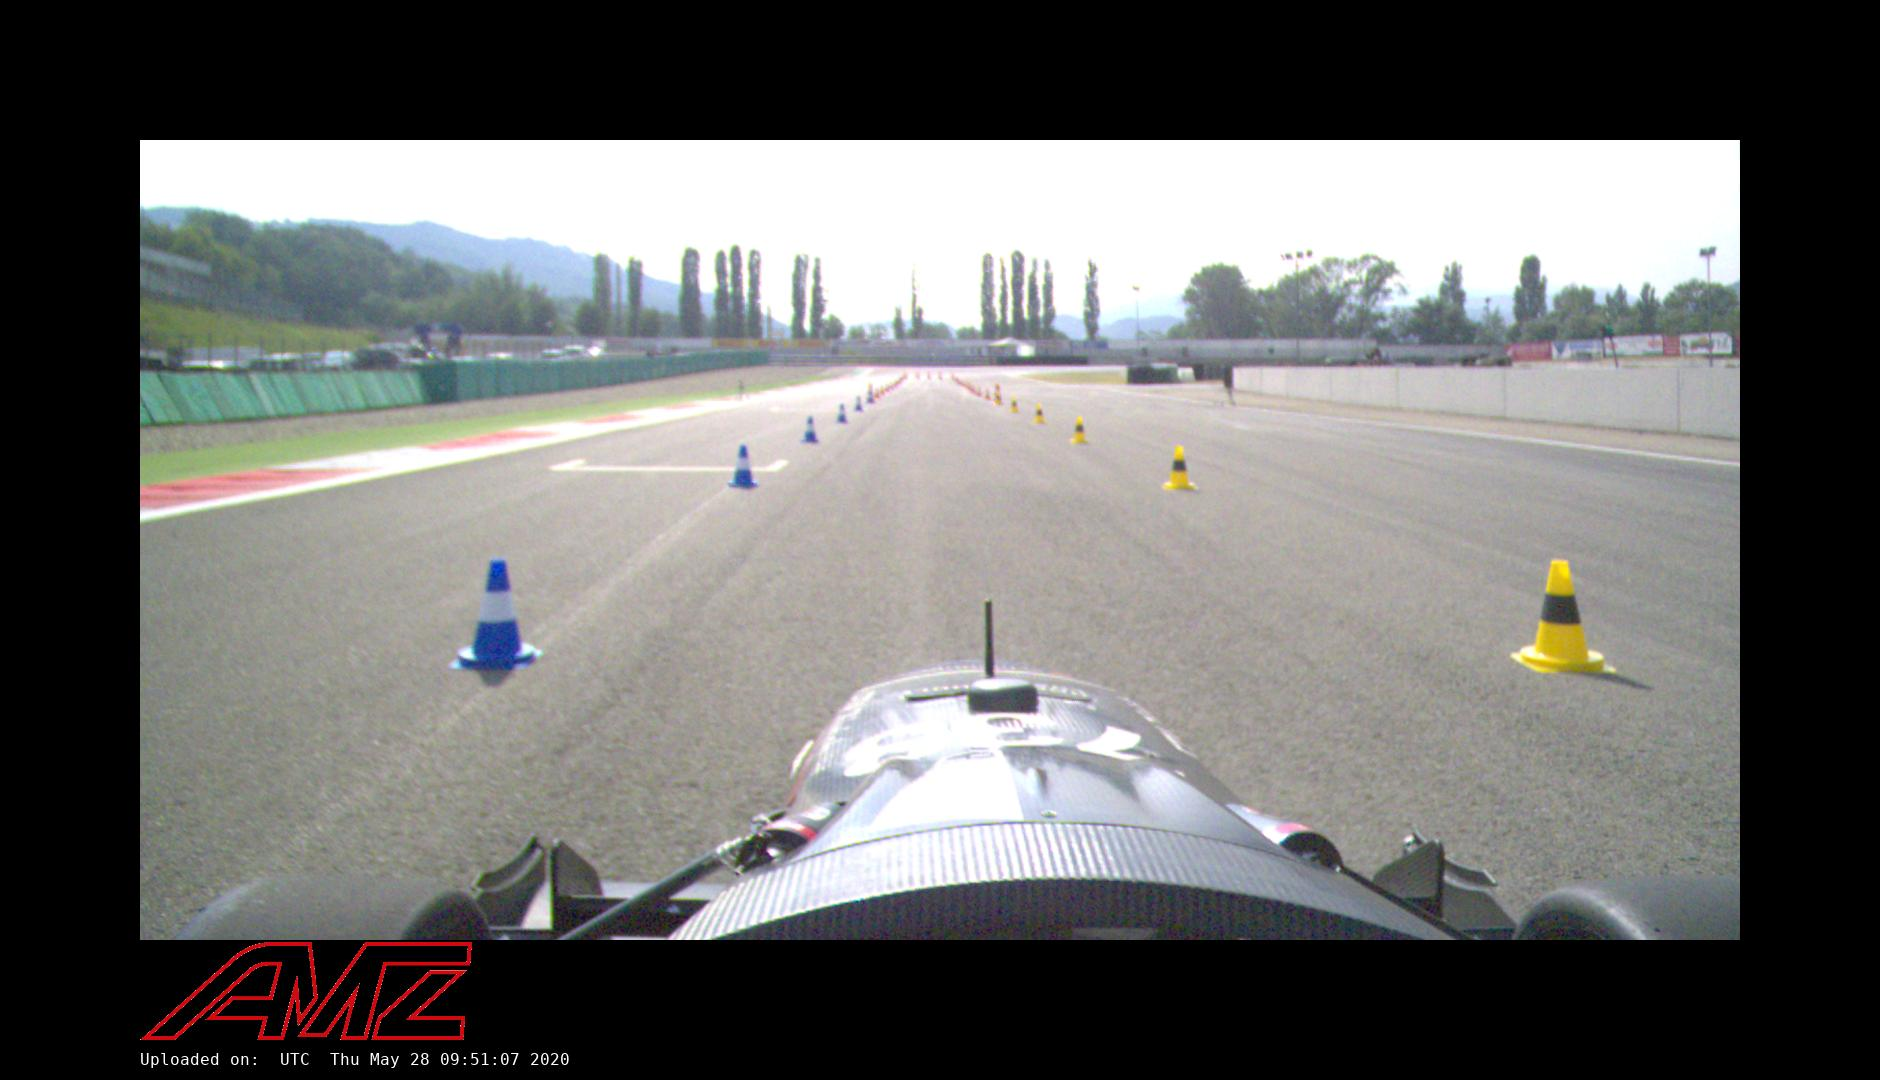blue_cone: (447, 558, 542, 668), (726, 444, 759, 490), (801, 416, 820, 443), (835, 403, 850, 424), (853, 397, 865, 412), (865, 391, 875, 406)
large_orange_cone: (992, 385, 1005, 403), (865, 382, 875, 399), (926, 371, 932, 380), (903, 369, 908, 380), (915, 369, 921, 379), (937, 371, 943, 380), (950, 371, 955, 379)
orange_cone: (983, 389, 990, 400), (873, 388, 881, 398), (975, 386, 983, 395), (879, 385, 884, 395), (971, 385, 977, 393), (884, 382, 890, 391), (890, 382, 894, 389), (894, 380, 897, 386)
yellow_cone: (1161, 444, 1197, 491), (1069, 415, 1088, 444), (1032, 403, 1048, 425), (1007, 397, 1019, 413), (994, 393, 1002, 406)
